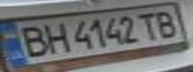1: (87, 16, 106, 48)
2: (118, 11, 142, 45)
4: (103, 14, 127, 47), (69, 16, 90, 51)
B: (9, 22, 51, 58), (151, 8, 181, 38)
H: (36, 19, 72, 54)
T: (136, 9, 163, 42)
